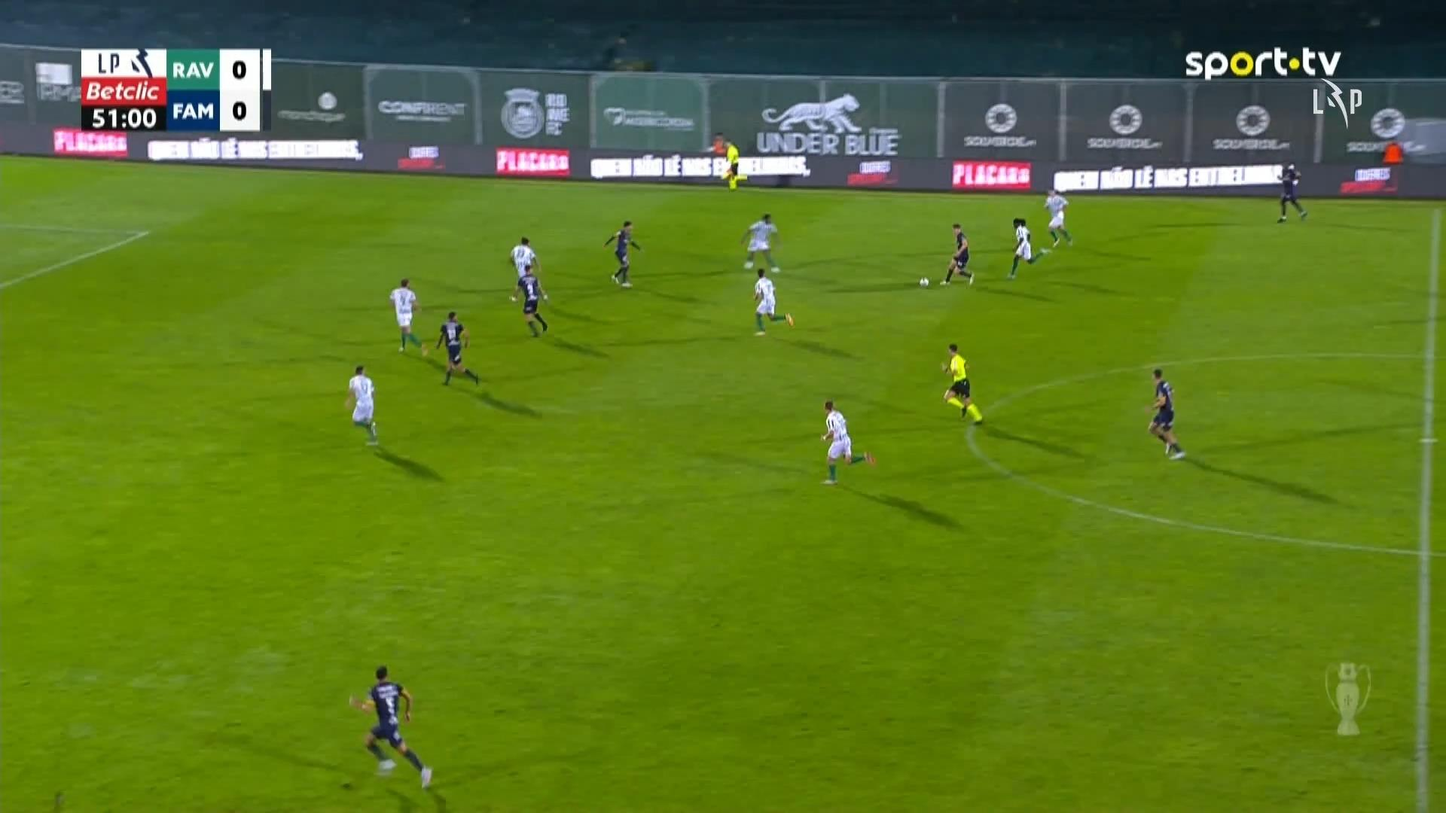player: (348, 664, 433, 790), (820, 398, 874, 486), (1146, 367, 1186, 459), (433, 310, 479, 386), (389, 277, 429, 357), (752, 266, 794, 336), (510, 265, 549, 337), (344, 364, 378, 446), (602, 220, 642, 288), (1006, 217, 1048, 279), (739, 212, 781, 273), (938, 222, 975, 287), (508, 236, 539, 302), (1275, 160, 1307, 222), (1043, 187, 1073, 248)
referee: (940, 342, 983, 425), (722, 138, 739, 190)
